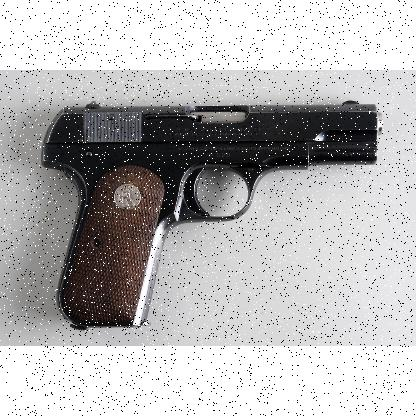gun: (41, 99, 383, 329)
